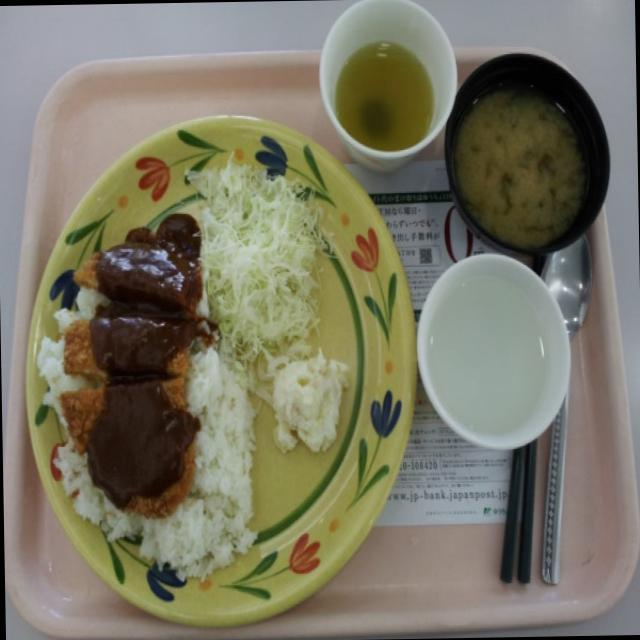Green Salad: (197, 142, 323, 355)
